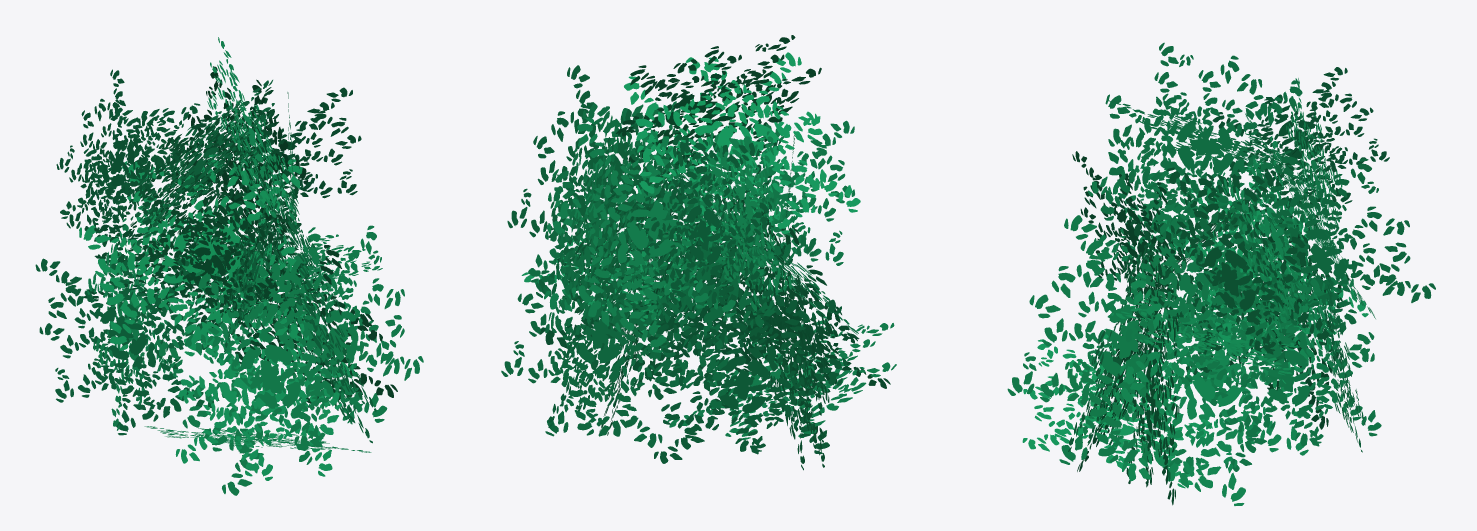
Rendered from s_Bush2.fbx.
3 views of the same model, side by side, from view 1: azimuth 30°, elevation 25°; view 2: azimuth 150°, elevation 25°; view 3: azimuth 270°, elevation 25° (orthographic). The views are drawn at different scales.
Visible parts, largest first — view 1: sBush2; view 2: sBush2; view 3: sBush2.
Part boxes in pixels (x1,y1,x2,y2): sBush2: [35, 37, 423, 495]; sBush2: [501, 35, 896, 470]; sBush2: [1007, 42, 1435, 505].
Size of the model in its own units: 144 by 157 by 159.
